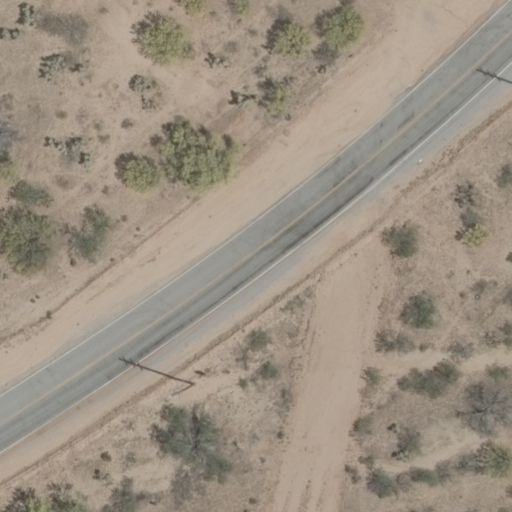DT: (166, 378, 198, 400)
